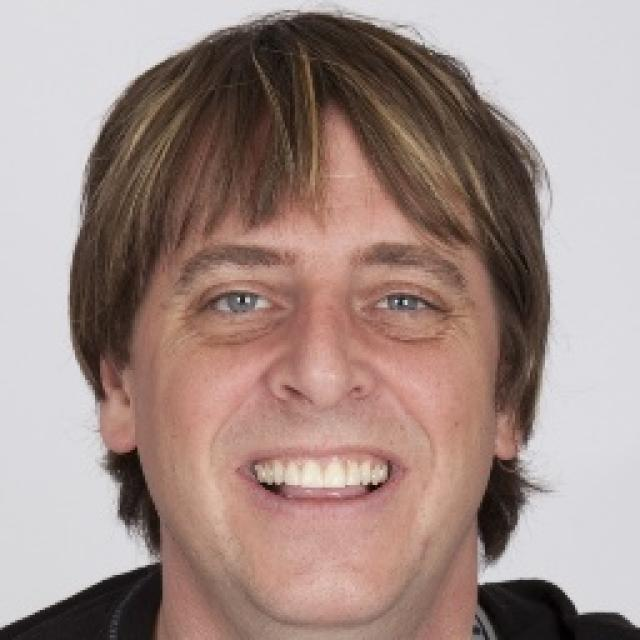earlobe: (99, 409, 139, 456), (489, 419, 525, 463)
eye: (196, 283, 286, 323), (360, 282, 446, 323)
nose: (267, 388, 374, 434)
wholeear: (86, 328, 140, 458), (498, 286, 538, 460)
